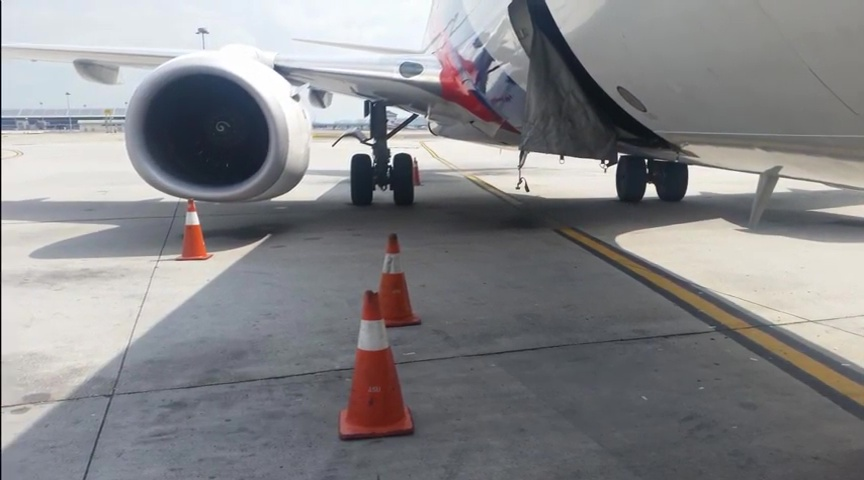safety_cone: (337, 289, 414, 441), (378, 233, 421, 327), (175, 199, 214, 261)
